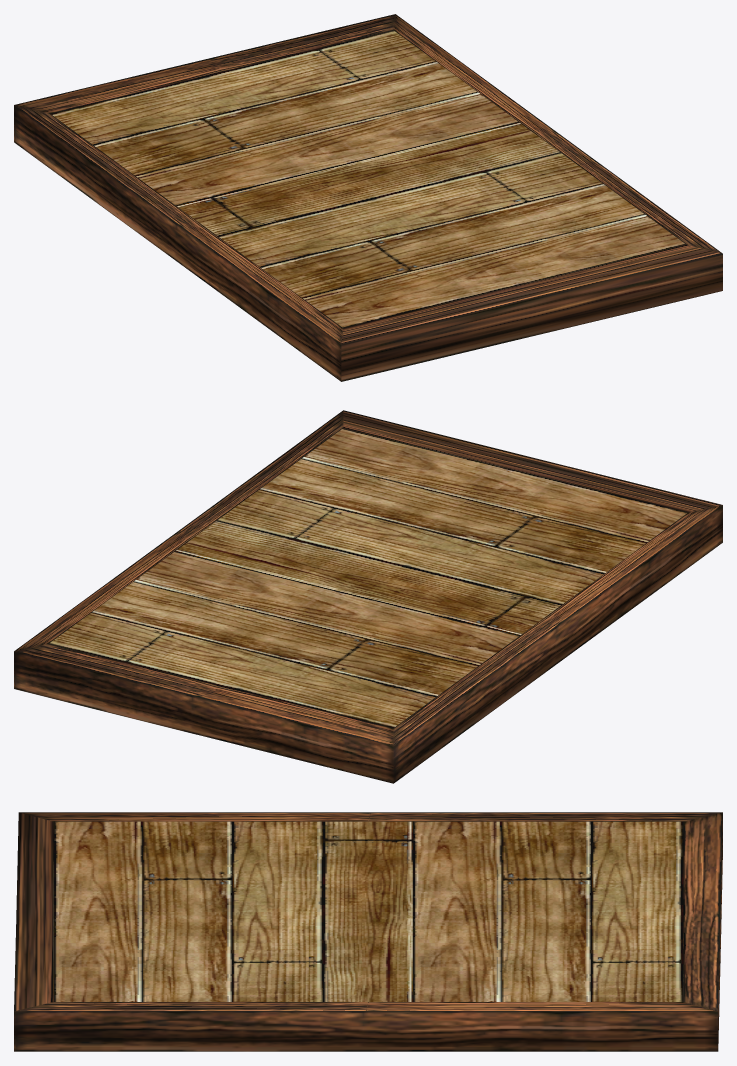
Rendered from LAKETOWN_WAREHOUSE3_PS_WH3_PLAT47474.fbx.
3 renders of one model, top to bottom at view 1: azimuth 30°, elevation 25°; view 2: azimuth 150°, elevation 25°; view 3: azimuth 270°, elevation 25°, orthographic. The views are drawn at different scales.
Visible parts, largest first — view 1: LAKETOWN_WAREHOUSE3_PS_WH3_PLAT47474; view 2: LAKETOWN_WAREHOUSE3_PS_WH3_PLAT47474; view 3: LAKETOWN_WAREHOUSE3_PS_WH3_PLAT47474.
Boxes of the visible parts, <box> form: LAKETOWN_WAREHOUSE3_PS_WH3_PLAT47474: <box>14,14,722,381</box>; LAKETOWN_WAREHOUSE3_PS_WH3_PLAT47474: <box>14,410,722,783</box>; LAKETOWN_WAREHOUSE3_PS_WH3_PLAT47474: <box>14,812,722,1051</box>.
Bounding box in the file's own units: 20816 × 1959 × 31303.
2 materials, 2 textured.
